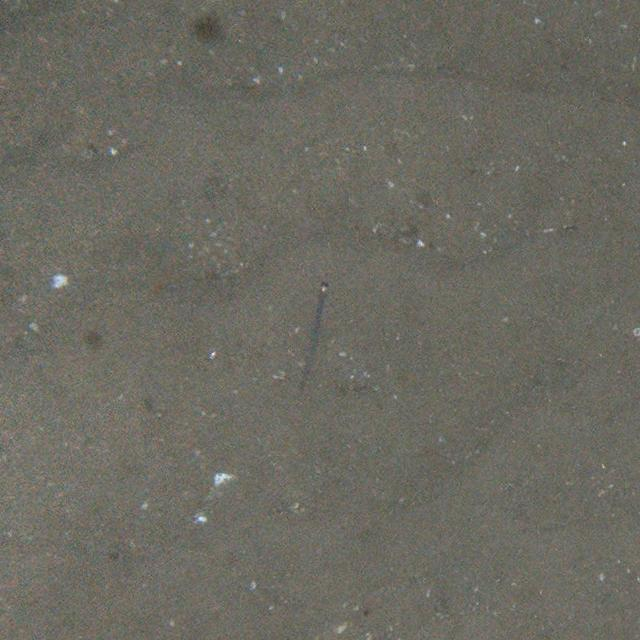roundfish: (300, 283, 334, 400)
